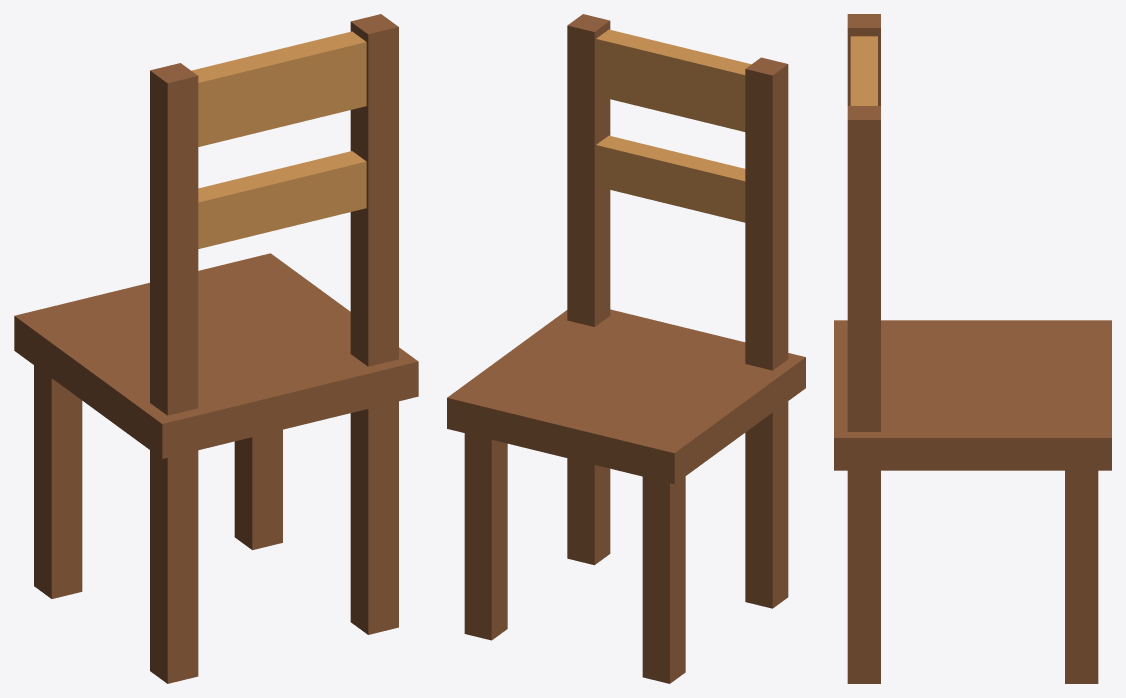
The model's file is chair.gltf.
3 renders of one model, left to right at view 1: azimuth 30°, elevation 25°; view 2: azimuth 150°, elevation 25°; view 3: azimuth 270°, elevation 25°, orthographic. The views are drawn at different scales.
Parts seen in each view (by area): view 1: Chair; view 2: Chair; view 3: Chair.
Part boxes in pixels (x1,y1,x2,y2): Chair: (14, 14, 418, 683); Chair: (447, 14, 805, 683); Chair: (834, 14, 1111, 683).
Bounding box in the file's own units: 0.46 × 1.03 × 0.46.
